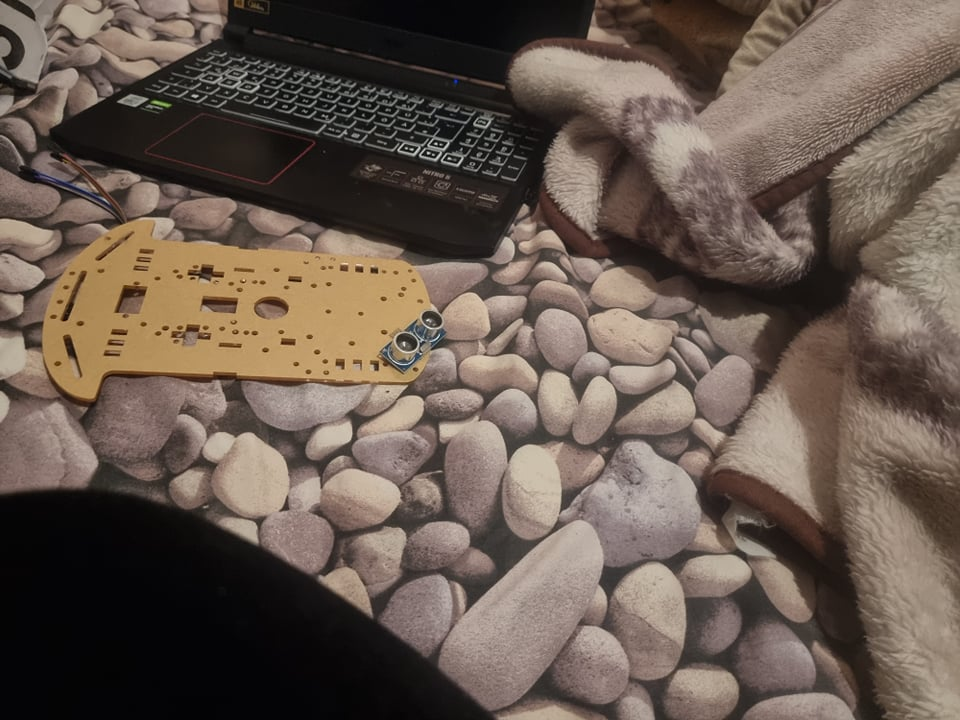SENSOR: (381, 308, 445, 370)
